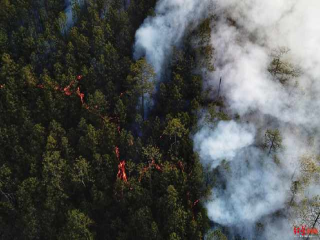fire: (38, 76, 94, 109), (112, 144, 131, 182)
smoke: (195, 44, 306, 218), (132, 5, 186, 118)
